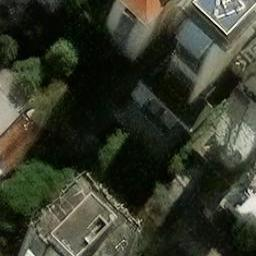heliponto: (194, 0, 255, 35)
